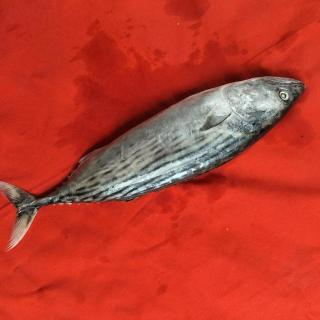Ikan: (5, 76, 297, 238)
